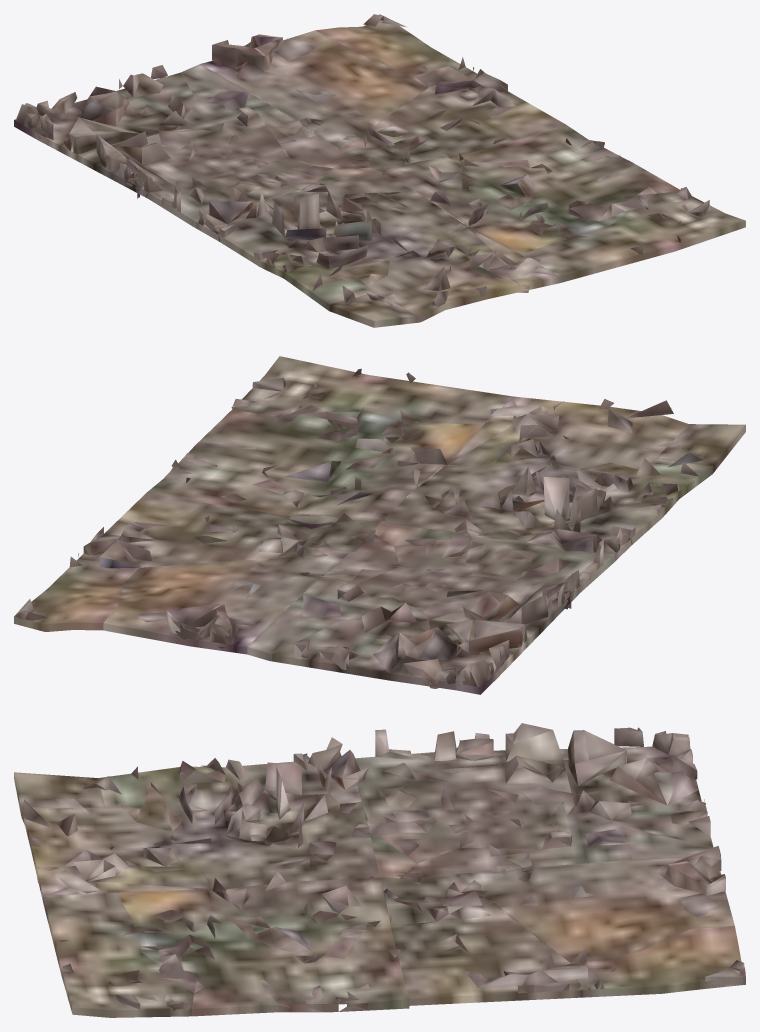
The picture shows the model from 3 angles, top to bottom: view 1: azimuth 30°, elevation 25°; view 2: azimuth 150°, elevation 25°; view 3: azimuth 270°, elevation 25°; orthographic projection. The views are drawn at different scales.
Parts seen in each view (by area): view 1: Mesh_0; view 2: Mesh_0; view 3: Mesh_0.
Part boxes in pixels (x1=…): Mesh_0: x1=14, y1=14, x2=745, y2=327; Mesh_0: x1=14, y1=356, x2=745, y2=694; Mesh_0: x1=14, y1=723, x2=745, y2=1017.
Size of the model in its own units: 1064 by 129 by 1318.
1 material, 1 textured.
